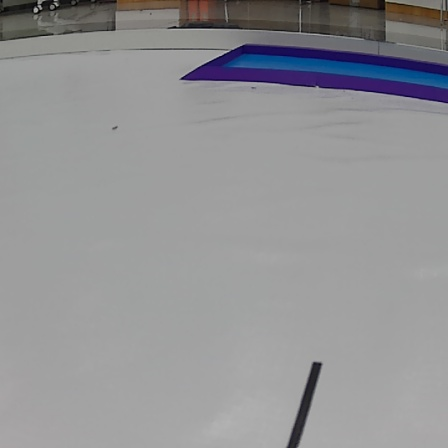blue_aim: (178, 40, 448, 103)
